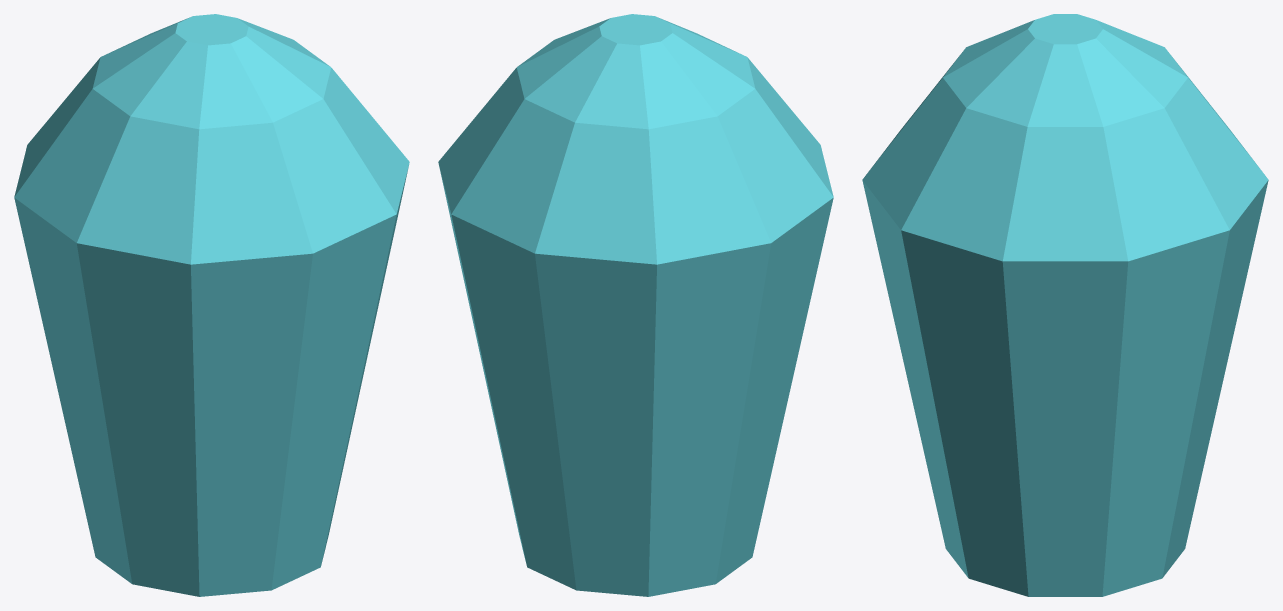
Rendered from kek1.glb.
The picture shows the model from 3 angles, left to right: view 1: azimuth 30°, elevation 25°; view 2: azimuth 150°, elevation 25°; view 3: azimuth 270°, elevation 25°; orthographic projection.
Visible parts, largest first — view 1: Cylinder; view 2: Cylinder; view 3: Cylinder.
Boxes of the visible parts, <box> form: Cylinder: <box>14,14,409,596</box>; Cylinder: <box>438,14,833,596</box>; Cylinder: <box>862,14,1268,596</box>.
Size of what is drawn, in the model's own units: 0.6458 by 0.9584 by 0.679.
